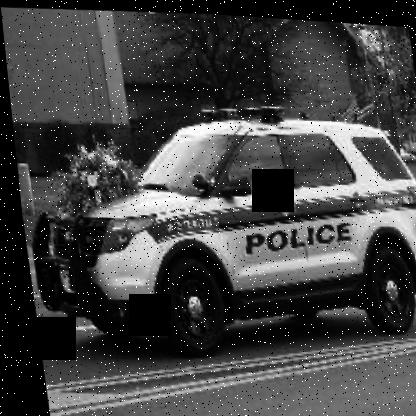emergency: (6, 76, 415, 375)
